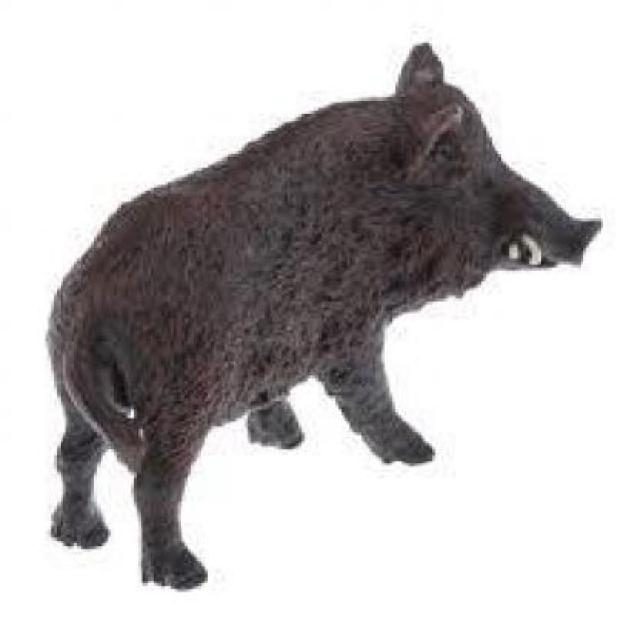wildboar: (39, 38, 613, 594)
